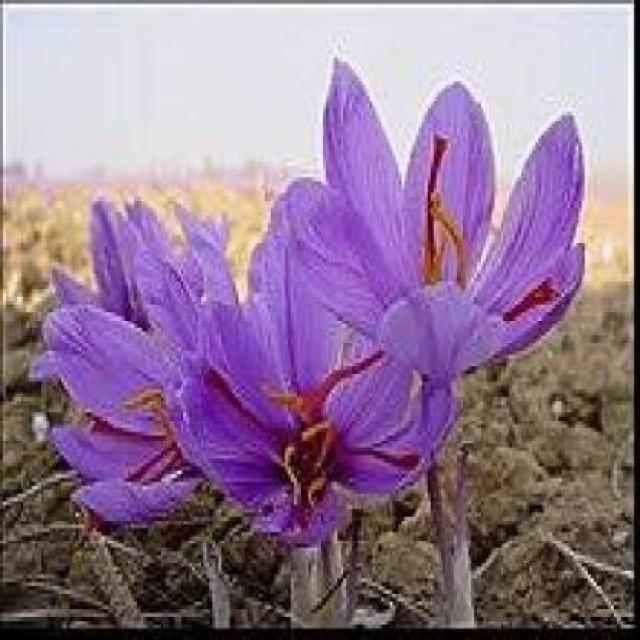Flower: (283, 52, 588, 396), (182, 237, 462, 546)
stigma: (198, 360, 281, 447), (310, 341, 389, 414), (84, 401, 171, 450), (342, 428, 420, 478), (492, 270, 556, 328), (417, 125, 462, 201)
